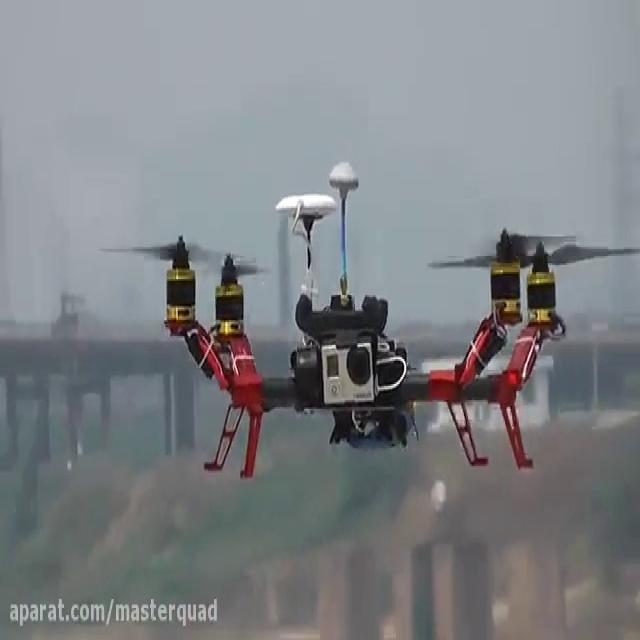drone: (104, 151, 637, 484)
